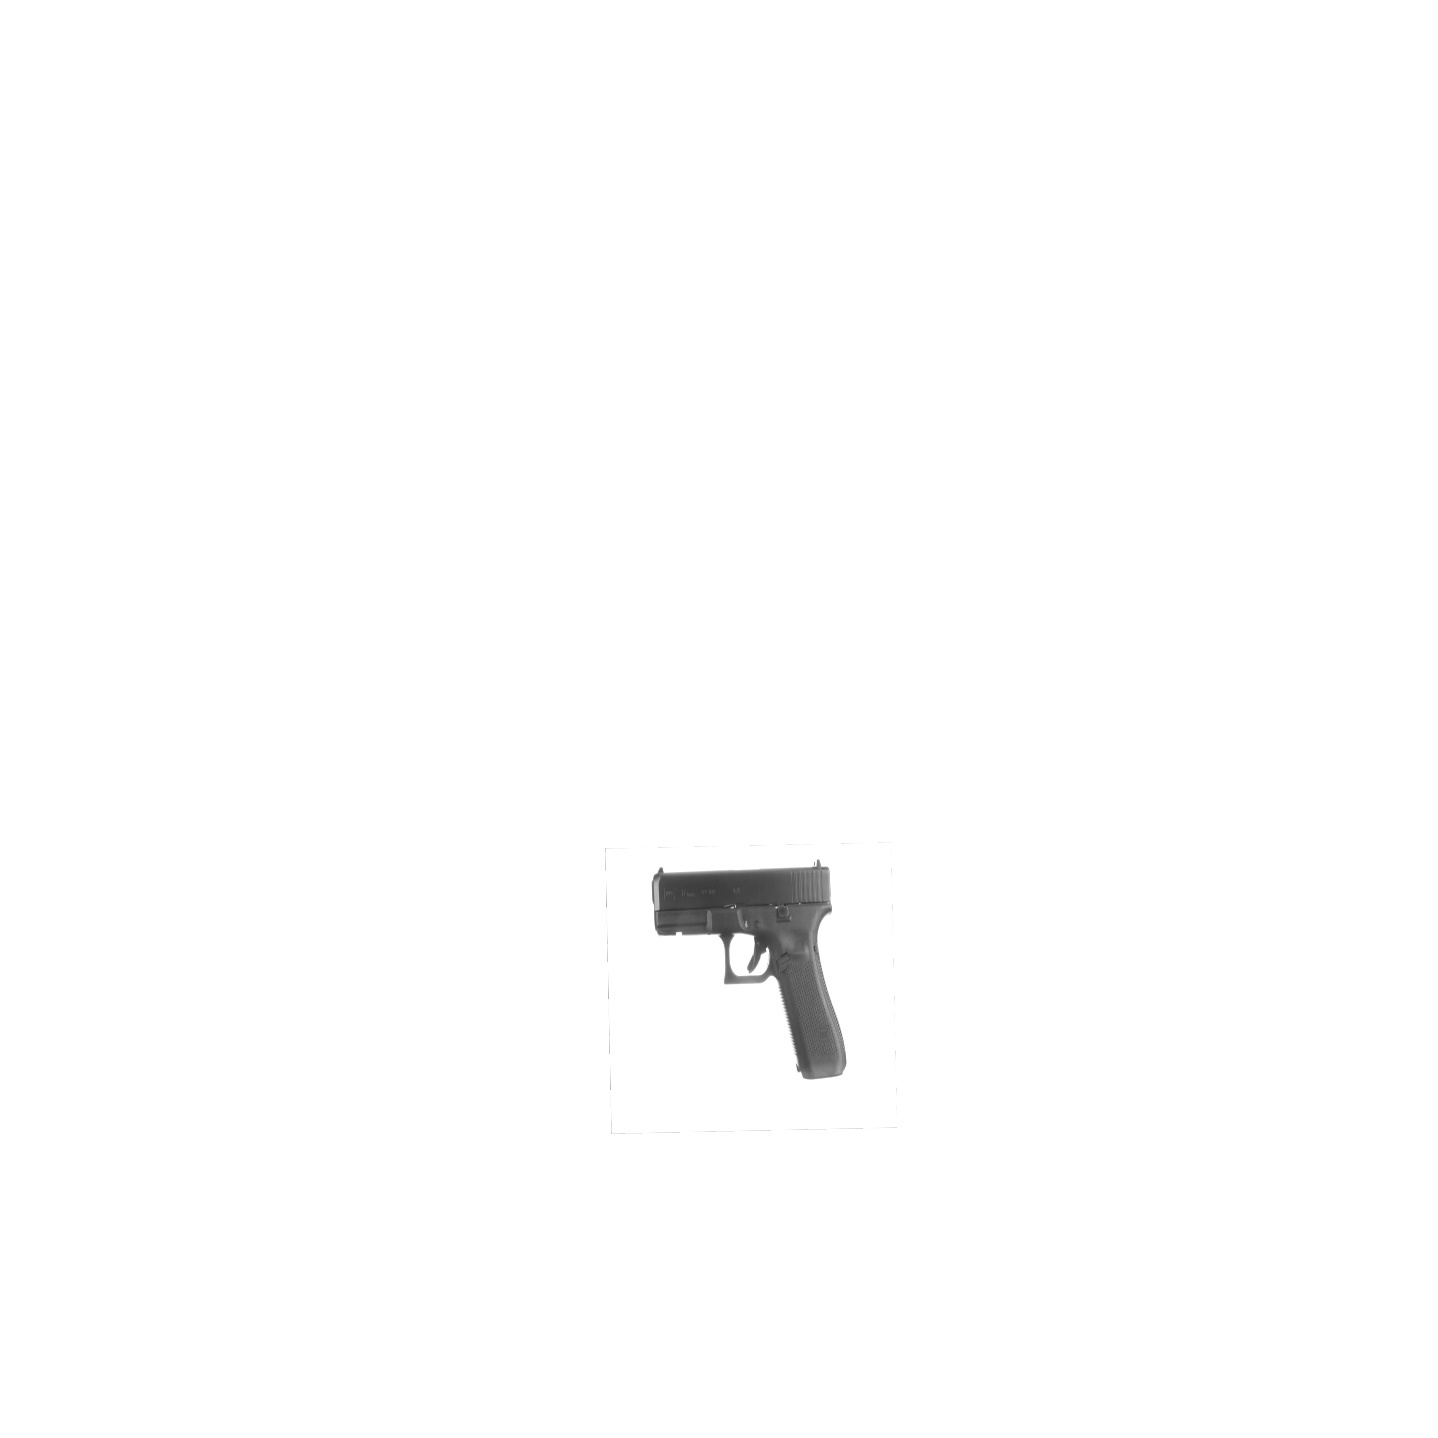gun: (651, 863, 852, 1078)
